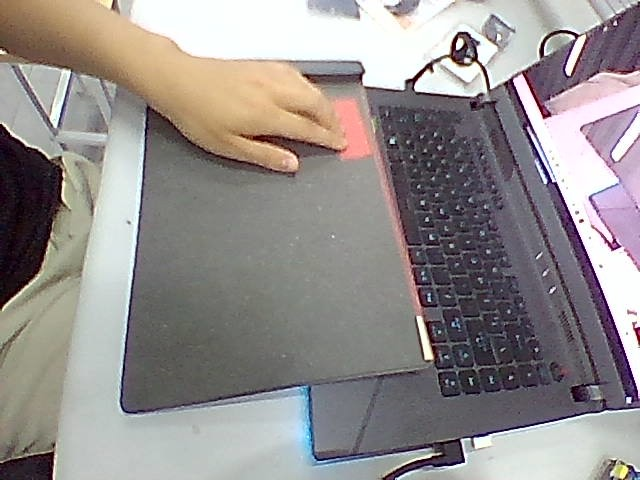card: (334, 98, 371, 160)
